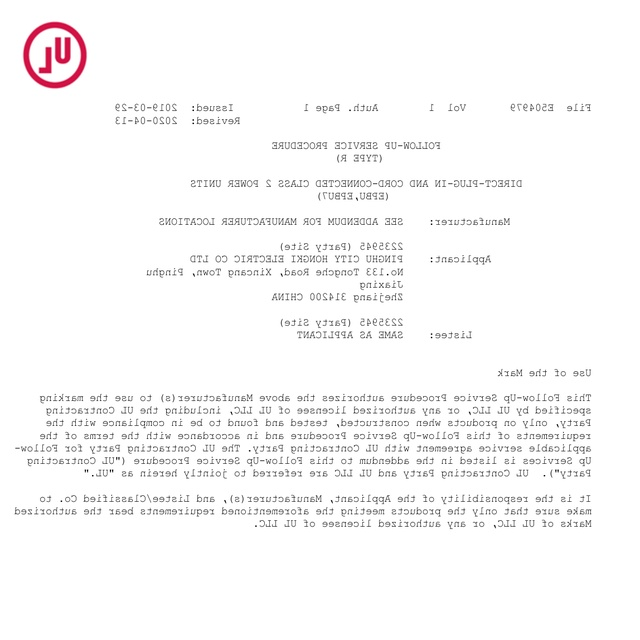ul: (21, 19, 92, 91)
